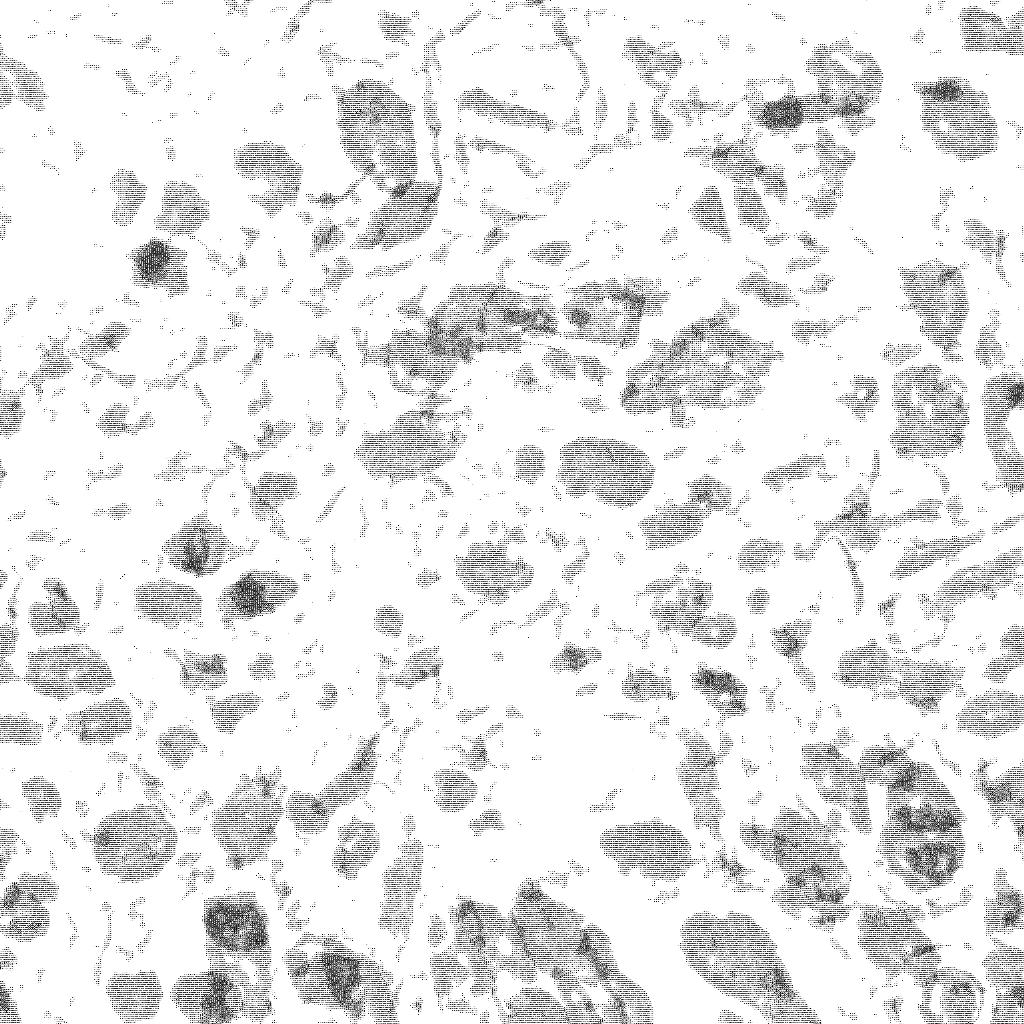axone: (612, 299, 782, 433), (674, 906, 822, 1024), (737, 800, 856, 933), (322, 73, 427, 204), (506, 877, 622, 986), (280, 930, 405, 1024), (420, 279, 559, 359), (908, 66, 1008, 170), (201, 889, 277, 1024), (353, 401, 469, 484), (878, 800, 975, 896), (883, 363, 975, 464), (205, 766, 289, 875), (552, 430, 662, 513), (852, 897, 946, 991), (633, 569, 742, 648), (896, 256, 980, 358), (92, 797, 182, 887), (797, 740, 879, 835), (594, 816, 702, 888), (354, 176, 444, 254), (806, 36, 888, 117), (160, 509, 250, 580), (448, 535, 538, 606), (232, 138, 304, 221), (18, 571, 89, 644), (636, 491, 709, 560), (1, 870, 63, 950), (217, 568, 298, 628), (124, 236, 195, 304), (893, 654, 967, 719), (129, 575, 209, 635), (166, 967, 249, 1024), (324, 808, 383, 887), (61, 695, 139, 751), (916, 969, 991, 1024), (835, 634, 895, 702), (955, 683, 1024, 742), (152, 174, 214, 239), (163, 642, 233, 698), (691, 660, 751, 724), (950, 3, 1024, 54), (101, 967, 167, 1024), (983, 936, 1024, 1024), (975, 867, 1022, 943), (424, 764, 483, 817), (245, 469, 302, 523), (107, 166, 150, 228), (2, 710, 46, 756)
